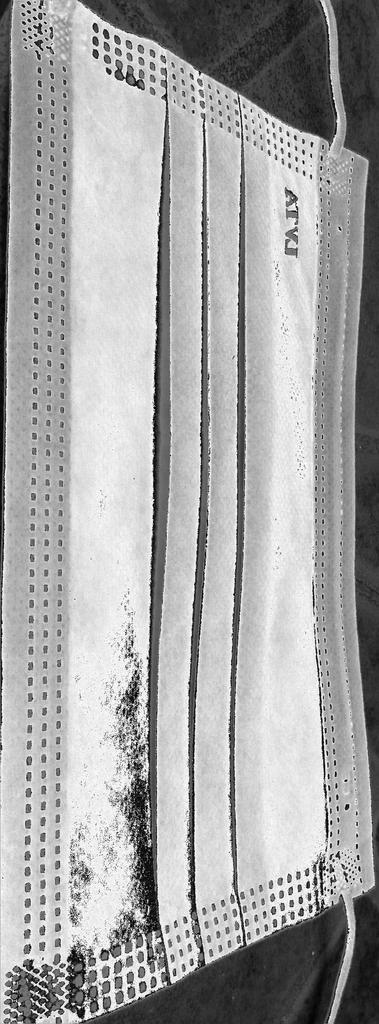High GSM: (54, 56, 317, 958)
